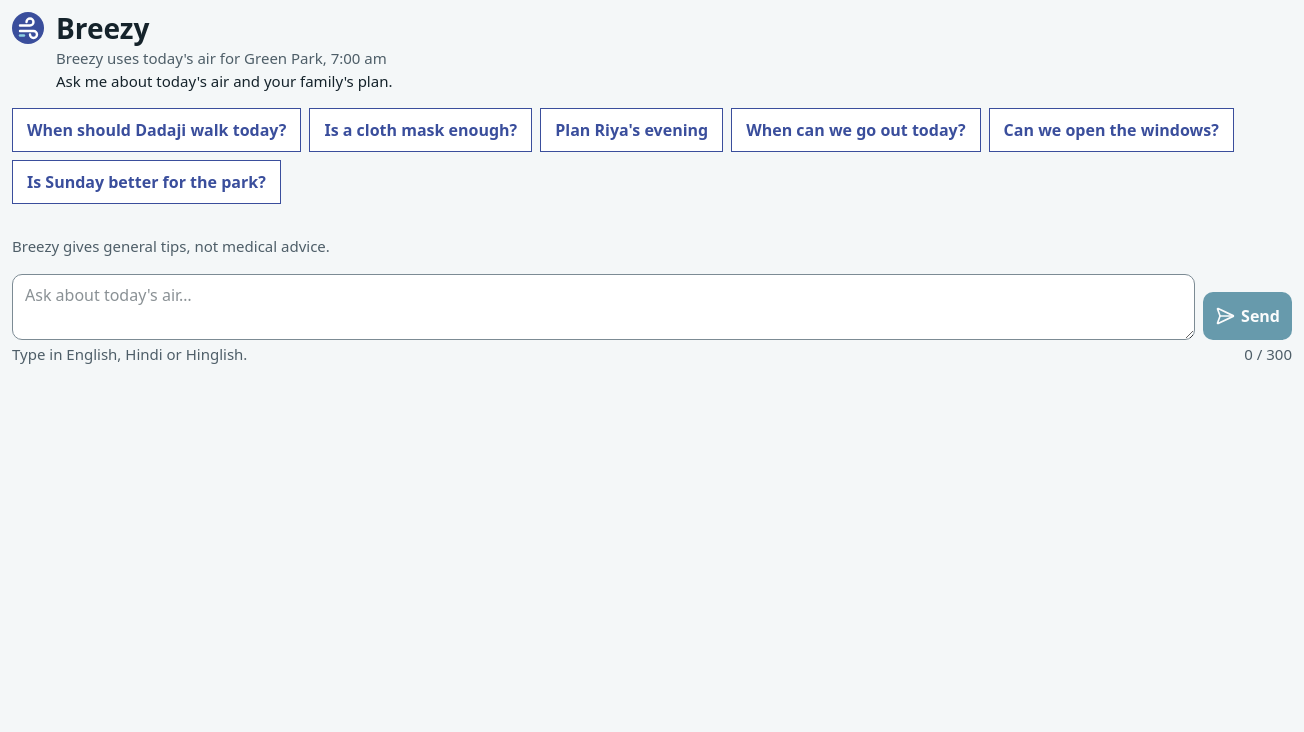
Scenario: BreezyView › asks who 'Papa' is, saves the pick, then sends the same question
The width and height of the screenshot is (1304, 732).
Type "Papa's inhaler is almost finished" into the text box named "Your question for Breezy". click: [604, 307]
box: [12,274,1195,340]
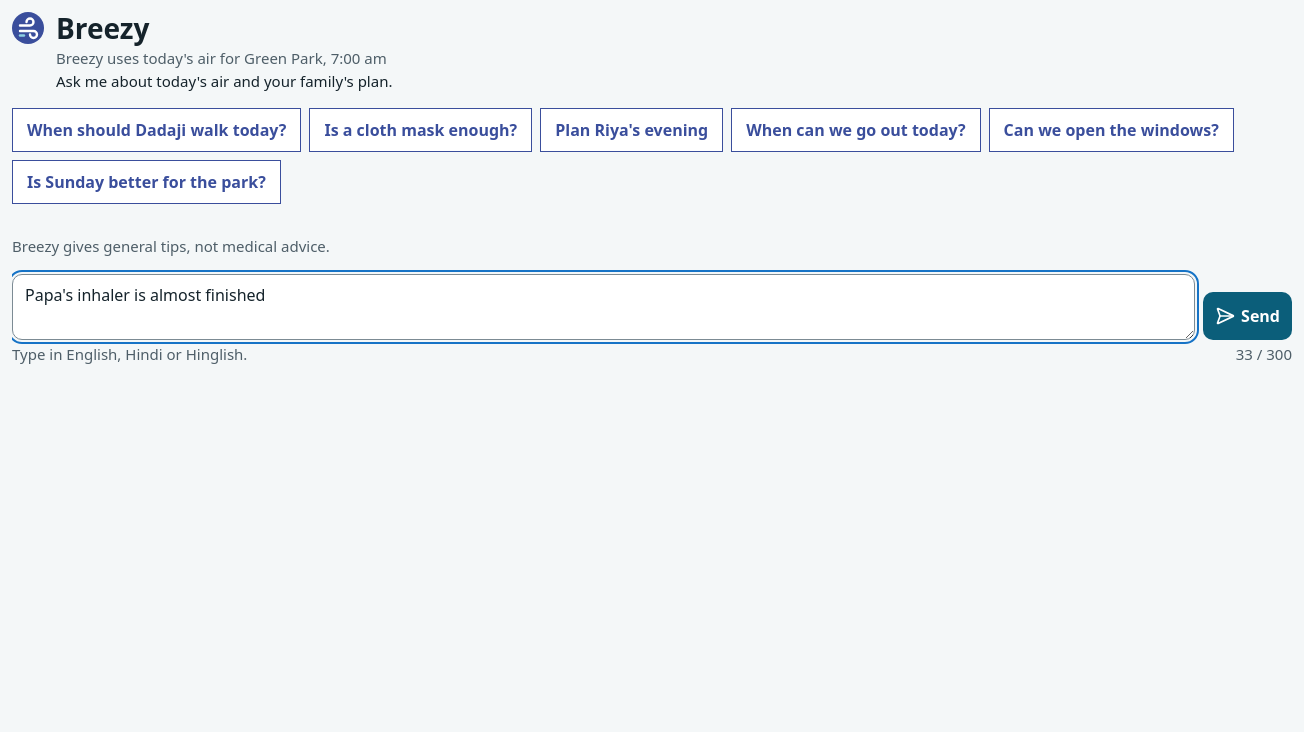
Click the button "Send". click: [1248, 316]
box: [1203,292,1292,340]
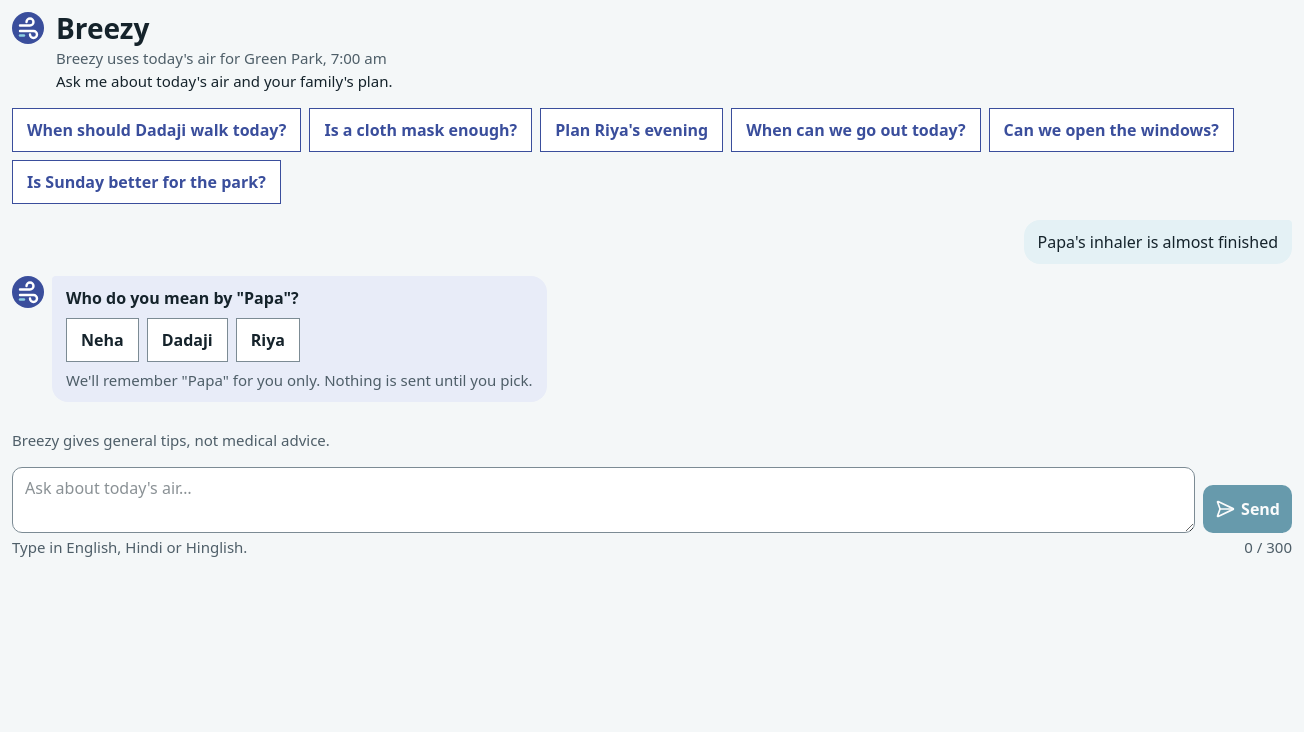
Now the text "Who do you mean by \"Papa\"?" is shown, box [66,287,299,309]
Now the text "We'll remember \"Papa\" for you only. Nothing is sent until you pick." is shown, box [66,370,533,392]
Click the button "Dadaji". click: [187, 340]
box: [147,318,228,362]
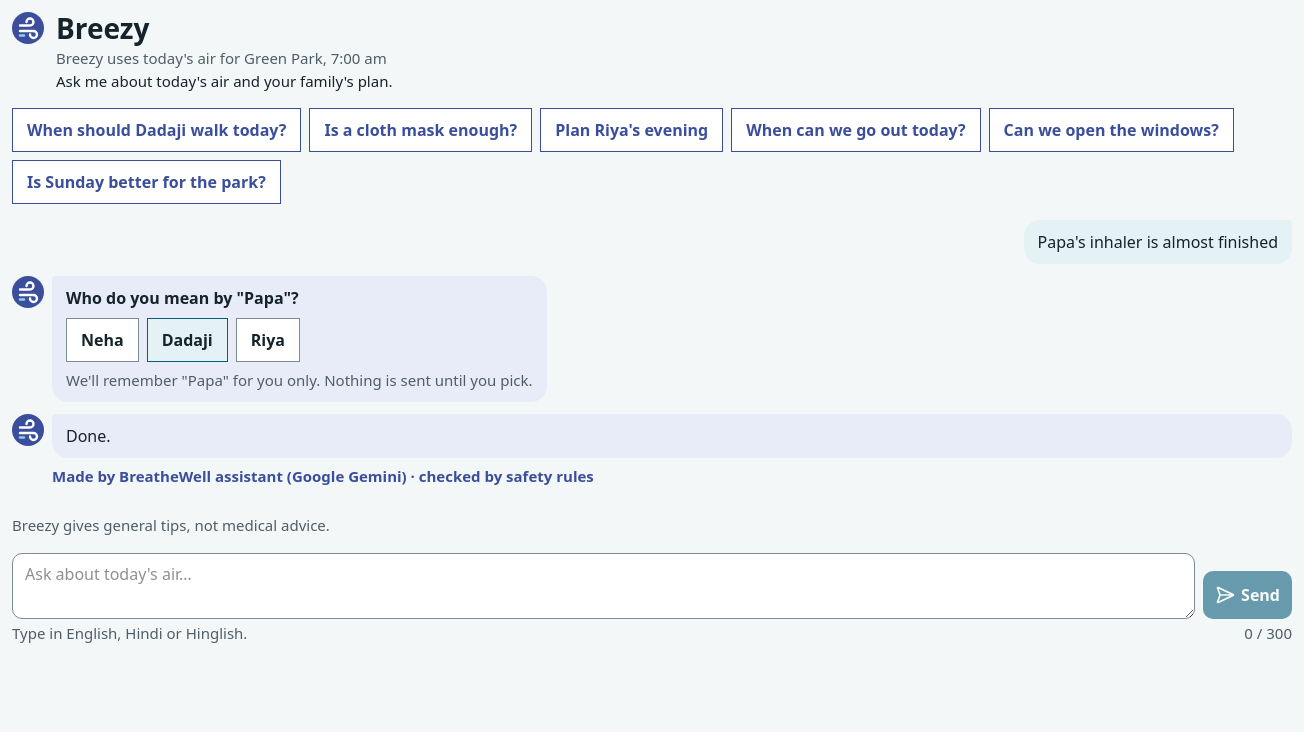
Now the text "Done." is shown, box [66,425,111,447]
